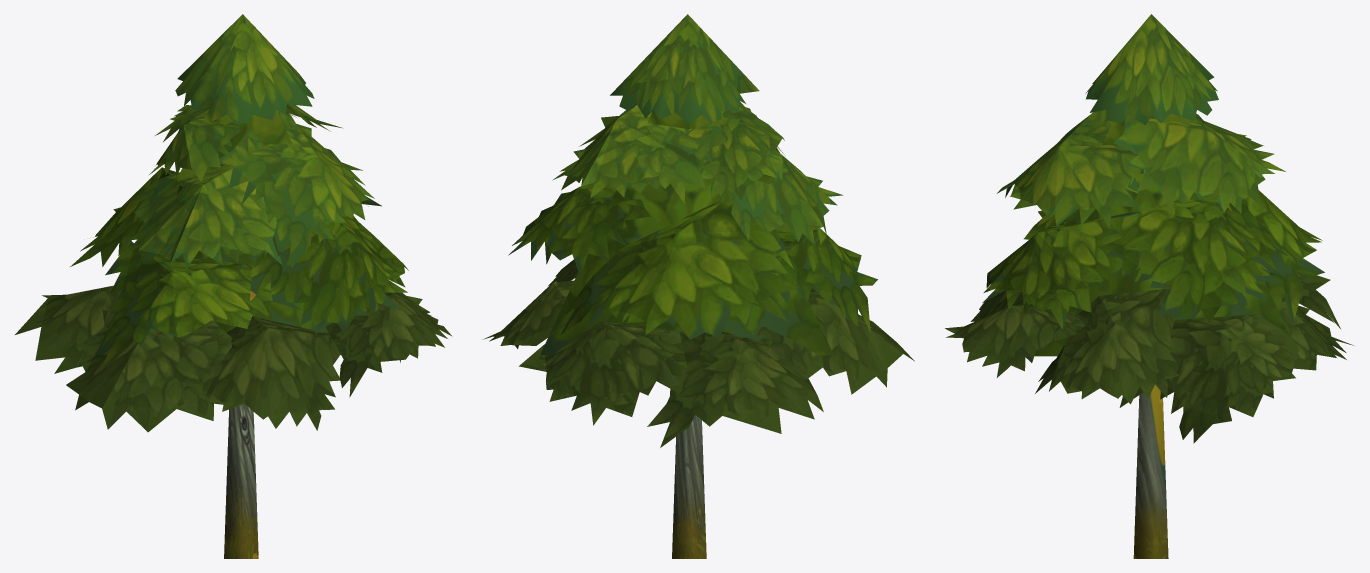
Rendered from oVgtTree03a.FBX.
3 renders of one model, left to right at view 1: azimuth 30°, elevation 25°; view 2: azimuth 150°, elevation 25°; view 3: azimuth 270°, elevation 25°, orthographic.
Visible parts, largest first — view 1: oVgtTree03a; view 2: oVgtTree03a; view 3: oVgtTree03a.
Boxes of the visible parts, <box> form: oVgtTree03a: <box>15,14,452,558</box>; oVgtTree03a: <box>482,14,914,558</box>; oVgtTree03a: <box>945,14,1353,558</box>.
Bounding box in the file's own units: 23.35 × 35.58 × 24.52.
1 material, 1 textured.
